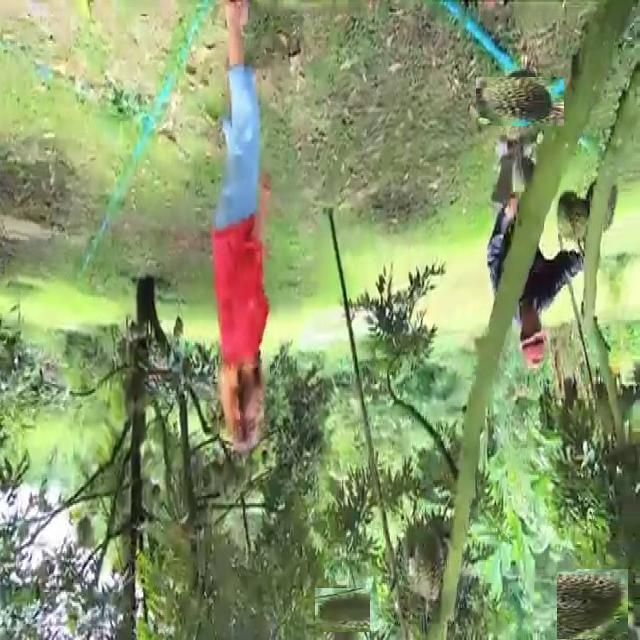durian: (557, 569, 628, 640), (394, 520, 449, 610), (485, 67, 555, 137), (583, 170, 620, 238), (317, 584, 367, 634), (553, 185, 591, 244)
